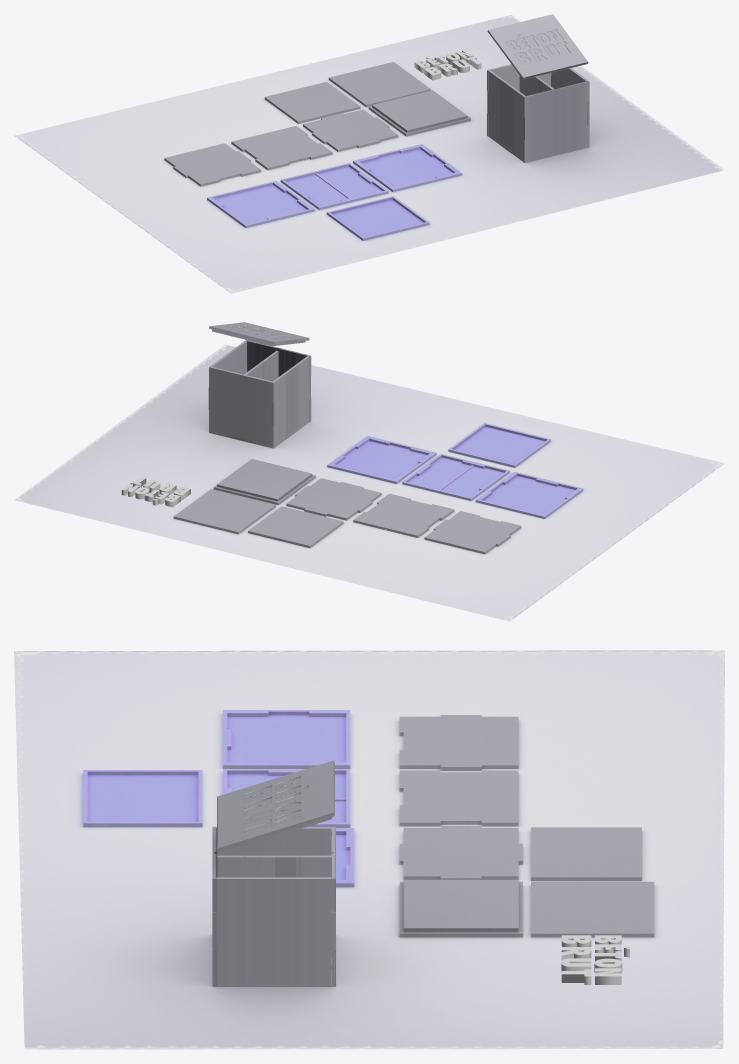
The model's file is betonformenGLTF.gltf.
3 renders of one model, top to bottom at view 1: azimuth 30°, elevation 25°; view 2: azimuth 150°, elevation 25°; view 3: azimuth 270°, elevation 25°, orthographic. The views are drawn at different scales.
Parts seen in each view (by area): view 1: c, Curve; view 2: c, Curve; view 3: c, Curve.
Boxes of the visible parts, box(x1,y1,x2,y2) form: c: box(14, 14, 724, 293); Curve: box(414, 49, 481, 80); c: box(14, 322, 724, 621); Curve: box(121, 477, 190, 507); c: box(14, 650, 724, 1049); Curve: box(561, 935, 629, 984).
Bounding box in the file's own units: 11.51 × 2.38 × 8.66.
1 material, 1 textured.
